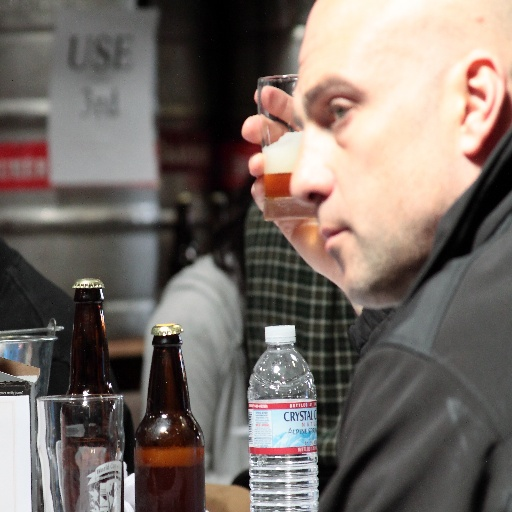hand: (240, 87, 346, 291)
